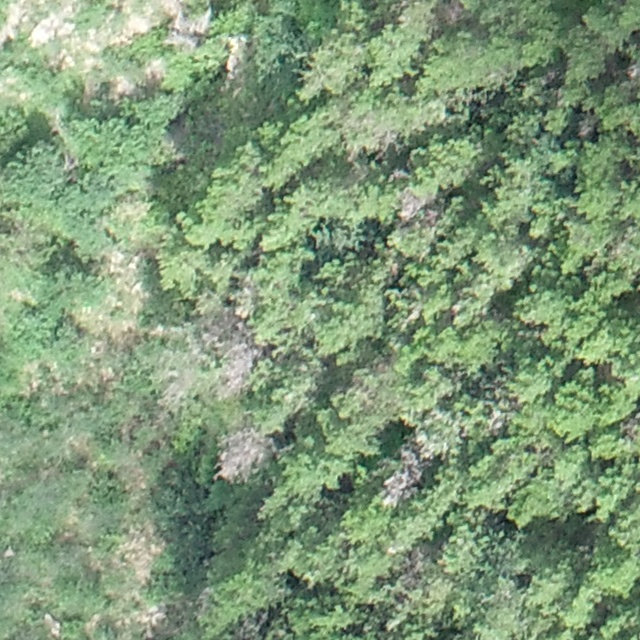unhealthy: (208, 322, 261, 398), (215, 424, 268, 483), (343, 109, 396, 163), (379, 456, 420, 507), (394, 186, 437, 225), (393, 543, 431, 585), (158, 370, 197, 408), (233, 609, 269, 639), (620, 408, 640, 446), (440, 0, 468, 27), (575, 114, 599, 141), (537, 65, 562, 87), (484, 407, 505, 428)
